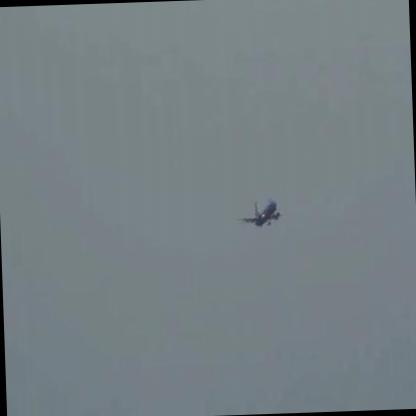plane: (235, 194, 286, 234)
